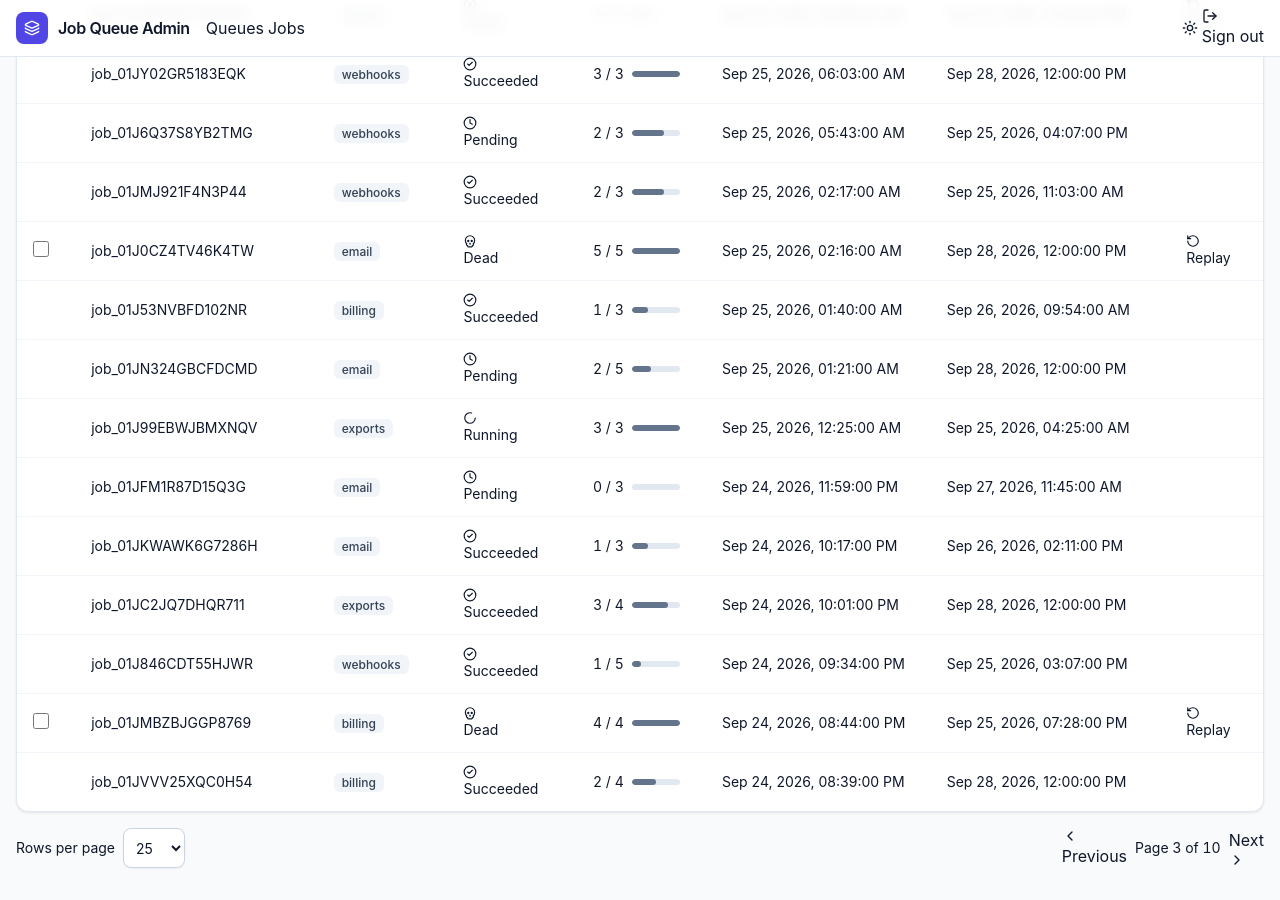
jobs list: loading and paging › changes the page size and resets to the first page
(page scrolled)
Select "50" in the dropdown labelled "Rows per page" at (154, 848), box x1=123 y1=828 x2=185 y2=868
(page scrolled)
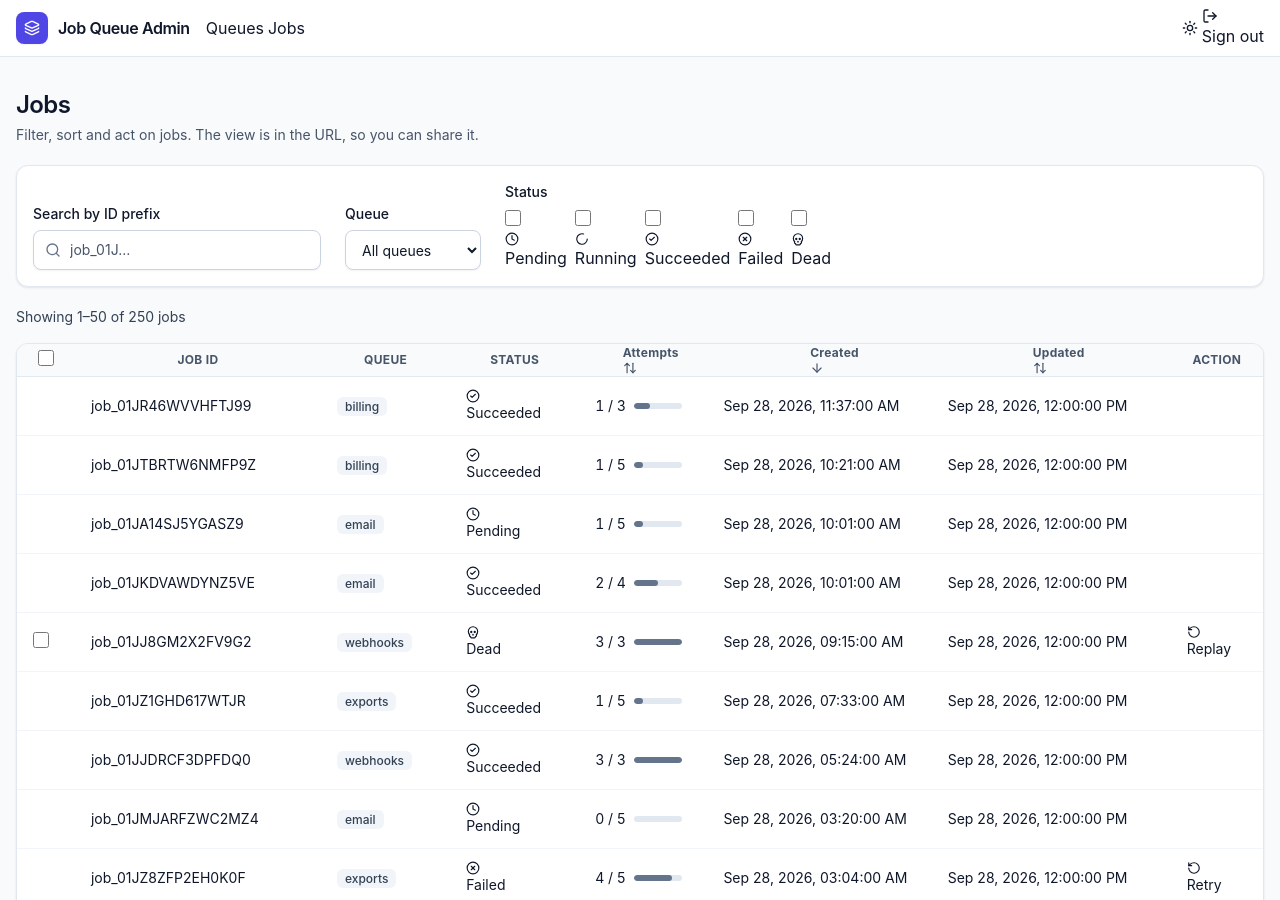
Result: the text "Showing 1–50 of 250 jobs" is shown at x1=16 y1=308 x2=186 y2=325
